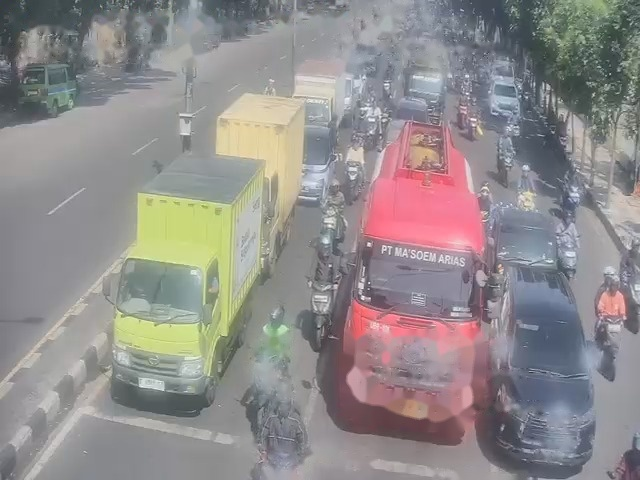Mobil: (497, 263, 594, 470), (493, 191, 563, 276), (298, 125, 337, 203), (489, 79, 520, 116)
Motor: (241, 346, 289, 438), (260, 393, 306, 466), (595, 275, 625, 379), (310, 284, 337, 351), (343, 134, 364, 203), (619, 263, 639, 332), (559, 236, 576, 276), (460, 111, 482, 140), (321, 207, 339, 242), (563, 183, 580, 216), (364, 114, 380, 148), (498, 149, 512, 187), (460, 105, 468, 113)
Truk: (343, 121, 487, 422), (111, 155, 265, 406), (215, 93, 304, 279), (293, 60, 350, 125)
